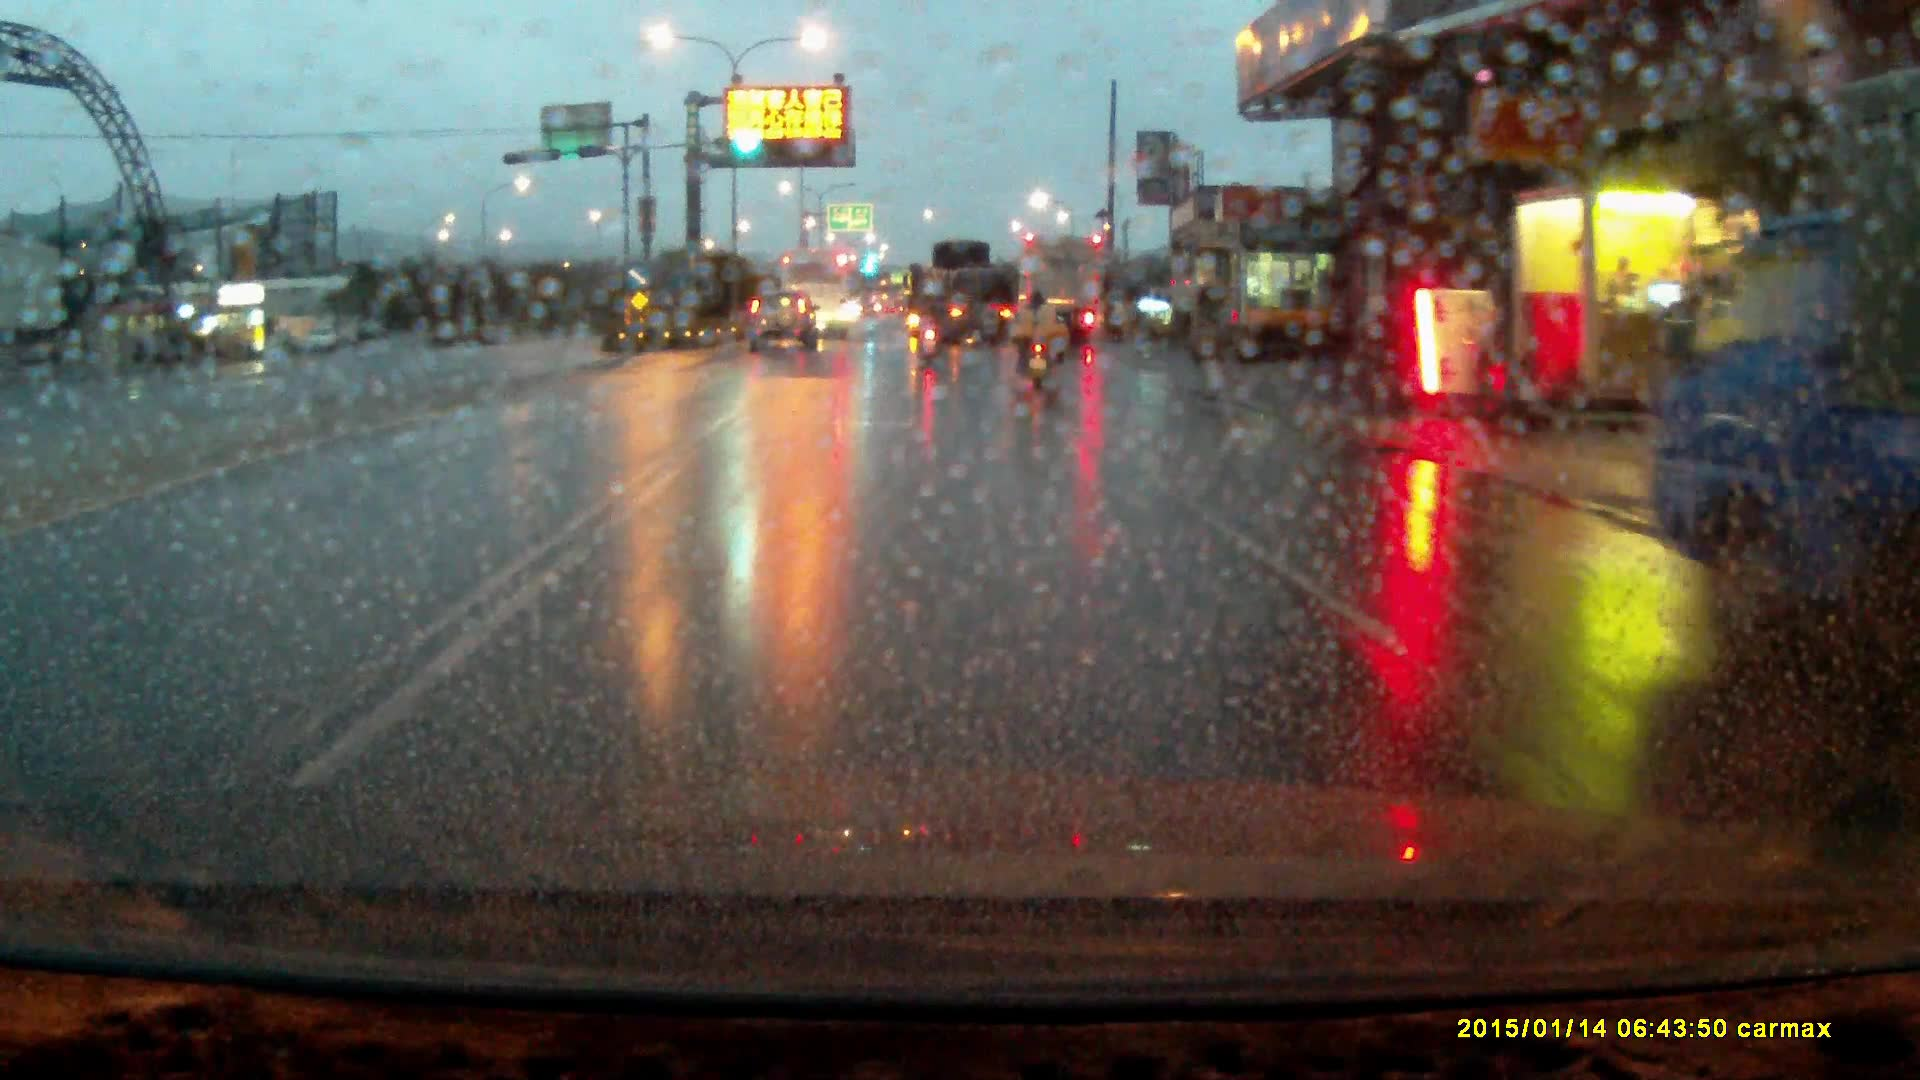rider: (1018, 287, 1058, 393), (915, 285, 943, 363)
vehicle: (1644, 178, 1920, 636), (918, 240, 1023, 347), (1021, 236, 1105, 349), (779, 248, 853, 333), (748, 281, 817, 345)
